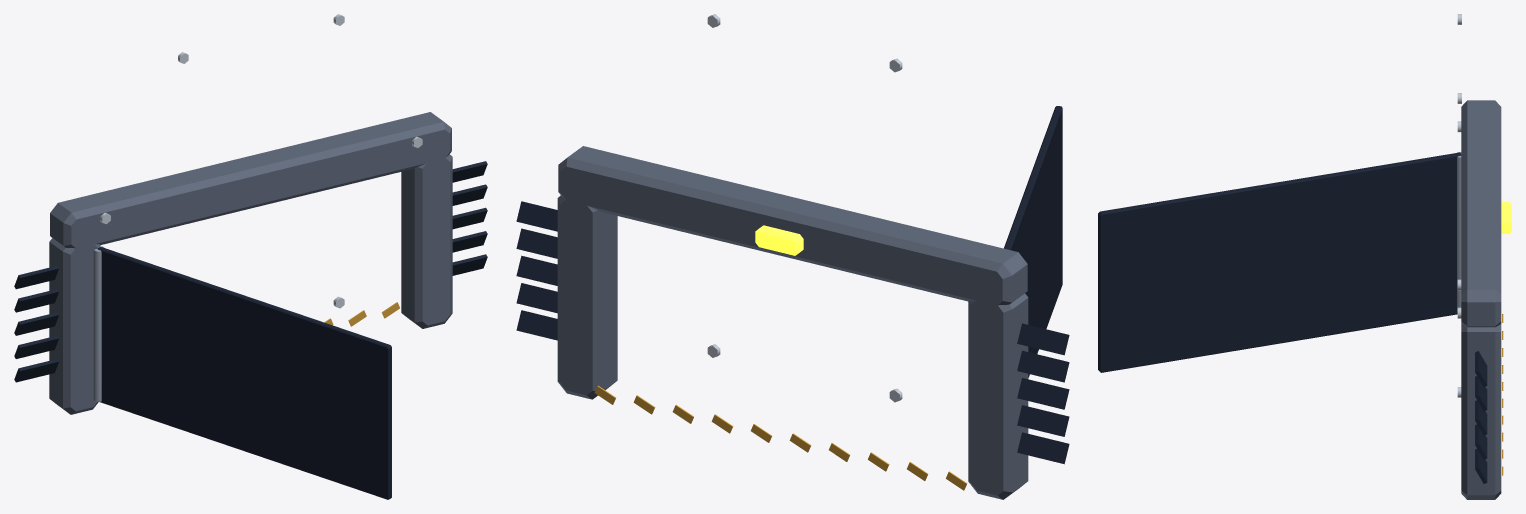
Rendered from shared_vent_grate.glb.
The picture shows the model from 3 angles, left to right: view 1: azimuth 30°, elevation 25°; view 2: azimuth 150°, elevation 25°; view 3: azimuth 270°, elevation 25°; orthographic projection. The views are drawn at different scales.
Parts seen in each view (by area): view 1: vent_grate_frame, vent_frame_top, vent_frame_side1, vent_frame_side-1, vent_louvre_l, vent_louvre_r, vent_grate_hinge, vent_frame_bolts; view 2: vent_frame_top, vent_frame_side1, vent_frame_side-1, vent_grate_frame, vent_louvre_l, vent_louvre_r, vent_hazard, vent_lamp, vent_frame_bolts; view 3: vent_grate_frame, vent_frame_top, vent_frame_side1, vent_louvre_r, vent_grate_hinge.
Part boxes in pixels (bbox=[...]): vent_grate_frame: bbox=[98, 247, 391, 499]; vent_frame_top: bbox=[50, 112, 451, 248]; vent_frame_side1: bbox=[401, 154, 452, 328]; vent_frame_side-1: bbox=[49, 238, 100, 414]; vent_louvre_l: bbox=[14, 265, 58, 382]; vent_louvre_r: bbox=[452, 161, 487, 275]; vent_grate_hinge: bbox=[93, 246, 104, 401]; vent_frame_bolts: bbox=[100, 14, 422, 308]; vent_frame_top: bbox=[558, 146, 1027, 305]; vent_frame_side1: bbox=[557, 195, 617, 399]; vent_frame_side-1: bbox=[968, 293, 1028, 499]; vent_grate_frame: bbox=[1004, 106, 1062, 377]; vent_louvre_l: bbox=[1017, 323, 1069, 464]; vent_louvre_r: bbox=[516, 201, 557, 340]; vent_hazard: bbox=[594, 385, 967, 490]; vent_lamp: bbox=[755, 225, 803, 255]; vent_frame_bolts: bbox=[707, 14, 902, 402]; vent_grate_frame: bbox=[1098, 152, 1461, 372]; vent_frame_top: bbox=[1461, 100, 1501, 327]; vent_frame_side1: bbox=[1461, 324, 1501, 499]; vent_louvre_r: bbox=[1475, 351, 1487, 483]; vent_grate_hinge: bbox=[1457, 152, 1461, 313].
Bounding box in the file's own units: 4.2 × 2.9 × 3.1.
